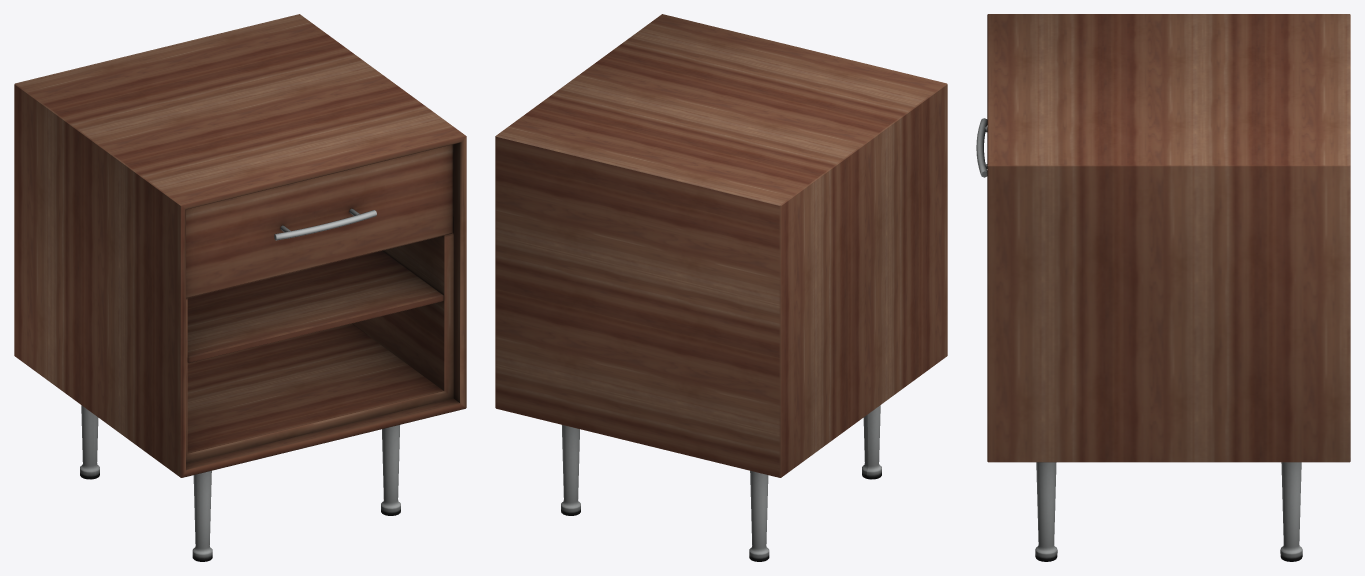
Rendered from nightstand.glb.
3 renders of one model, left to right at view 1: azimuth 30°, elevation 25°; view 2: azimuth 150°, elevation 25°; view 3: azimuth 270°, elevation 25°, orthographic. The views are drawn at different scales.
Parts seen in each view (by area): view 1: nightstand_shelf_game.001; view 2: nightstand_shelf_game.001; view 3: nightstand_shelf_game.001.
Part boxes in pixels (x1,y1,x2,y2): nightstand_shelf_game.001: (14,14,466,561); nightstand_shelf_game.001: (495,14,947,561); nightstand_shelf_game.001: (976,14,1350,561).
Size of the model in its own units: 0.4521 by 0.5805 by 0.471.
1 material, 1 textured.
